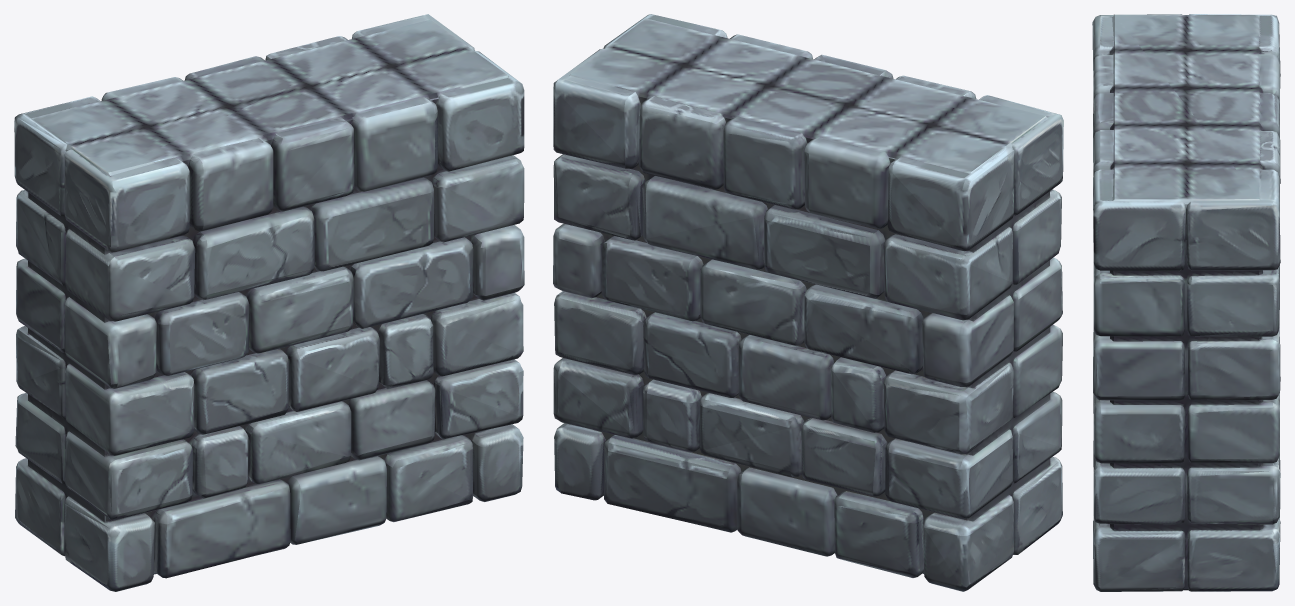
File: rock_block_test.glb
The picture shows the model from 3 angles, left to right: view 1: azimuth 30°, elevation 25°; view 2: azimuth 150°, elevation 25°; view 3: azimuth 270°, elevation 25°; orthographic projection. The views are drawn at different scales.
Bounding box in the file's own units: 1 × 0.957 × 0.415.
Materials: 1 (1 with a texture image).
